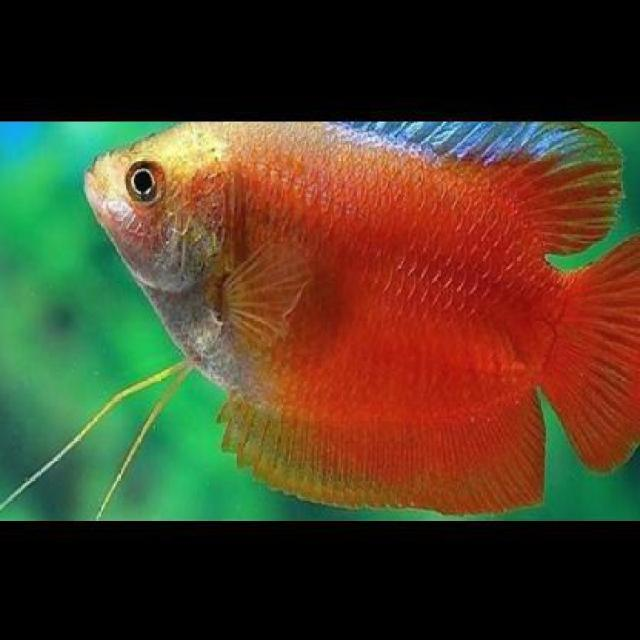Gourami: (79, 120, 638, 517)
